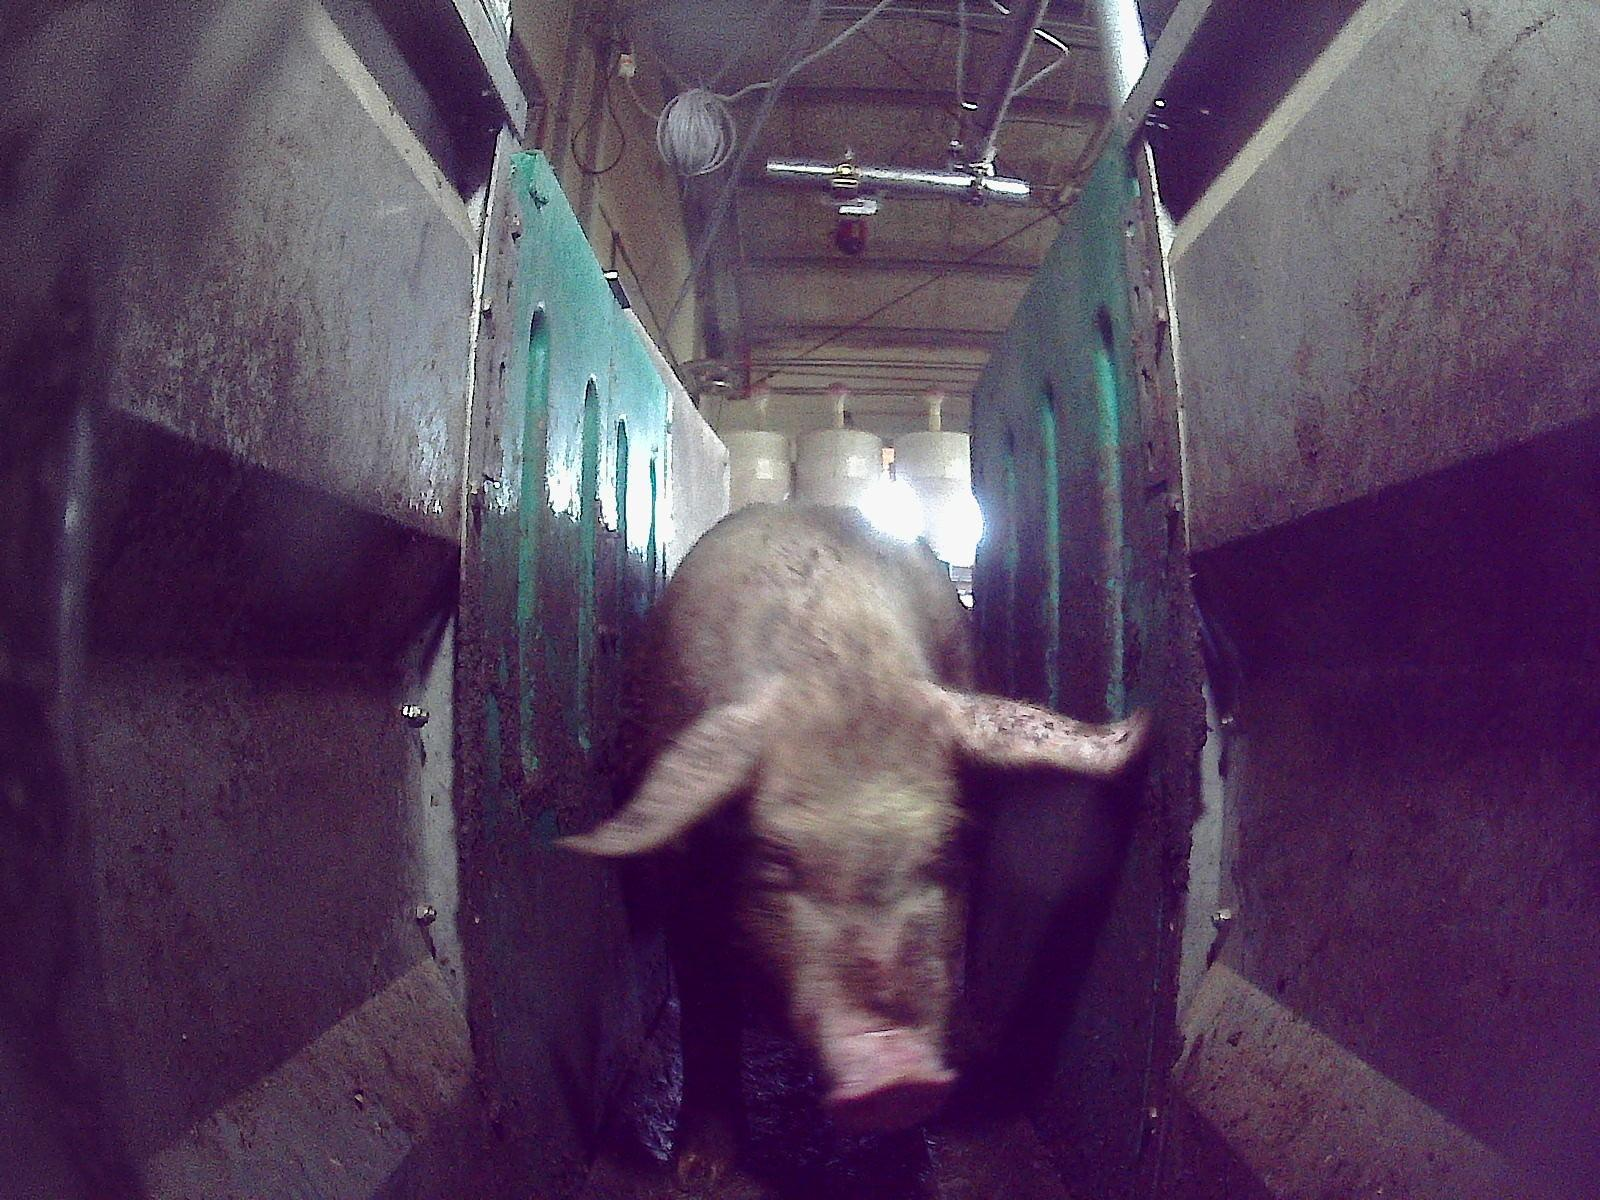Face: (732, 671, 974, 1130)
